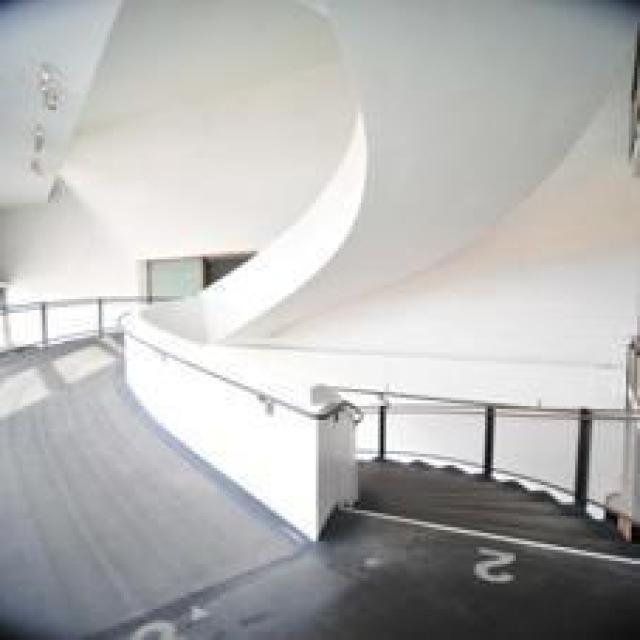downstair: (337, 359, 638, 576)
